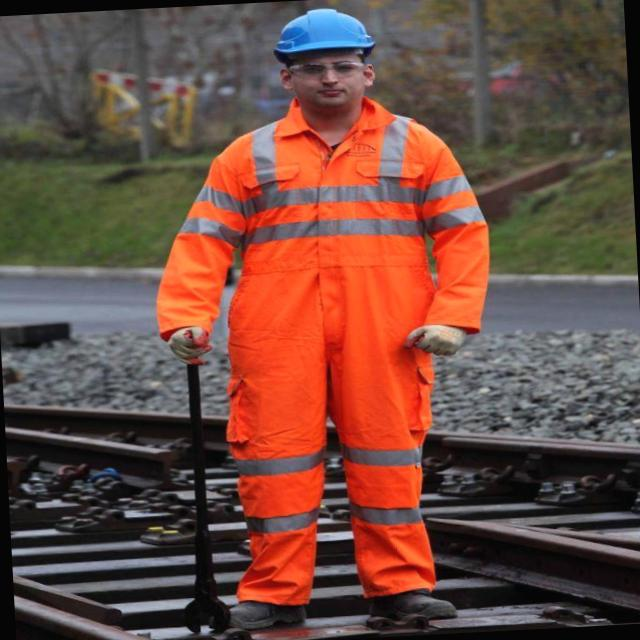helmet: (259, 2, 391, 73)
vest: (203, 106, 488, 412)
